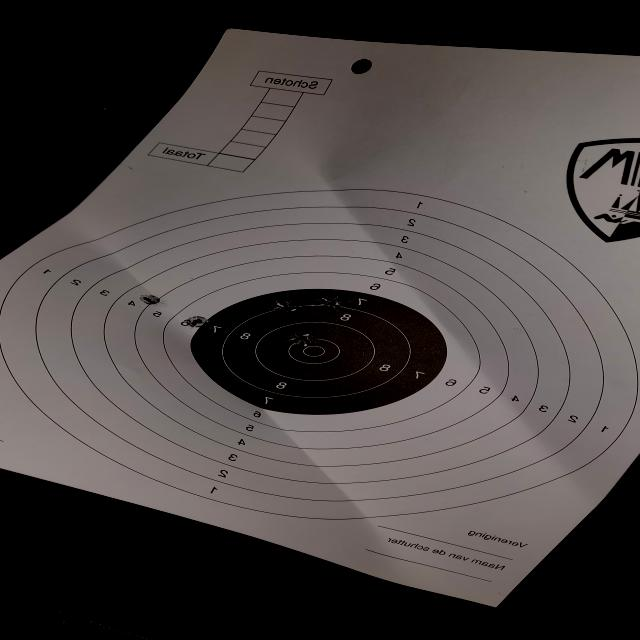10: (284, 332, 320, 347)
5: (139, 295, 168, 306)
7: (185, 316, 216, 328)
8: (313, 295, 355, 310), (268, 298, 303, 314)
Target: (0, 187, 639, 523)
black_contour: (188, 286, 448, 414)
